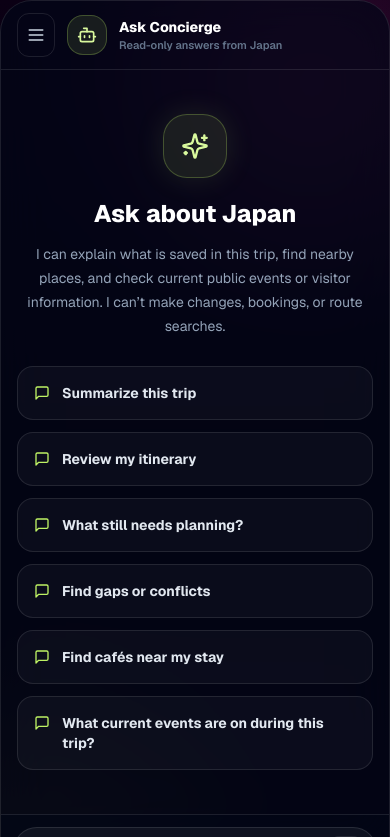
trip assistant interface › sends a starter prompt and renders the persisted answer
This screenshot has width=390, height=837.
Click the button "Summarize this trip" at (195, 393), box [17, 366, 373, 420]
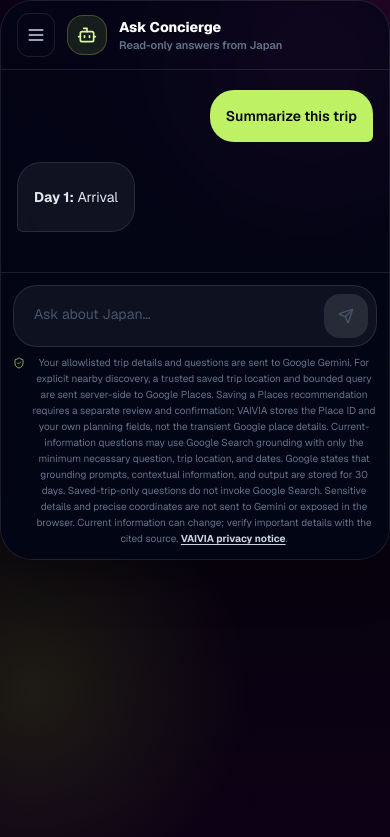
Check: the text "Day 1:" is shown, box [34, 188, 74, 206]
